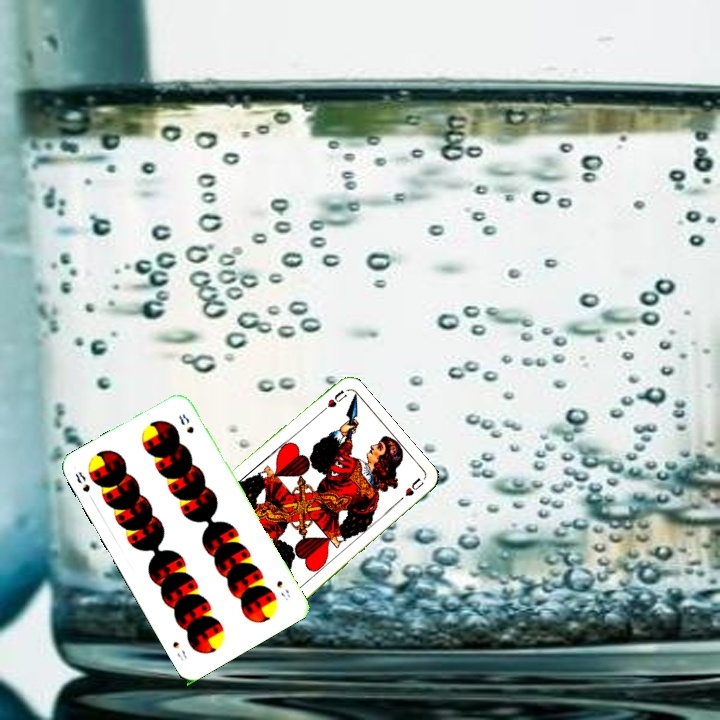HU: (314, 386, 349, 417)
S8: (71, 467, 93, 495), (273, 576, 293, 603)
